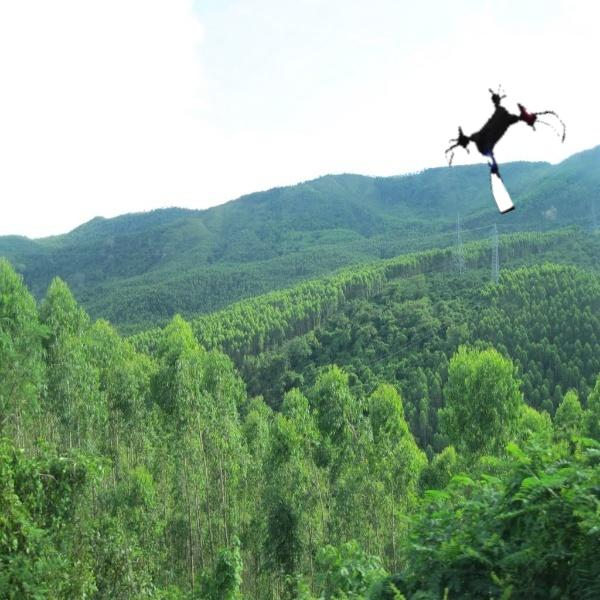drone: (442, 80, 571, 209)
